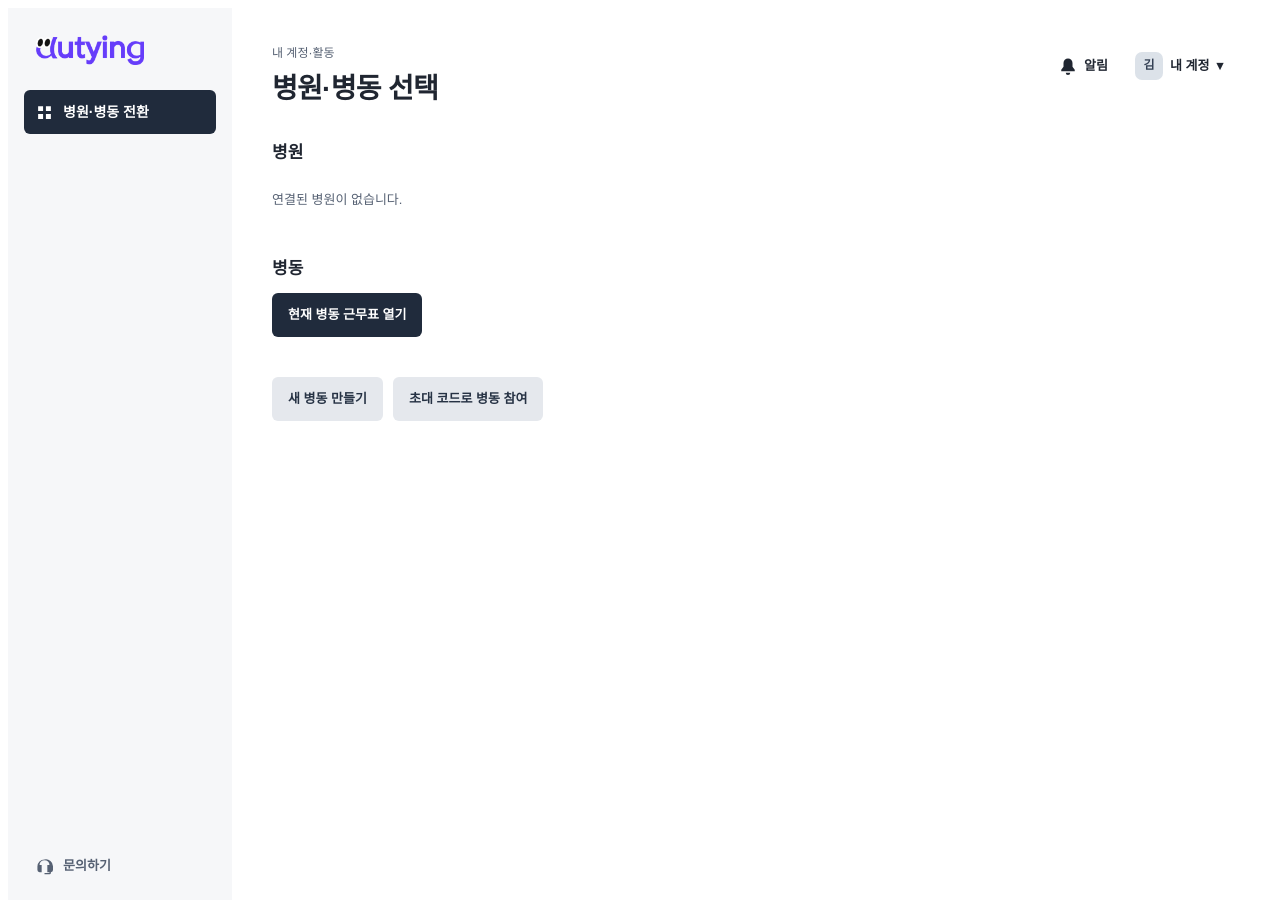
hospital management workspace › keeps ward code entry on the existing route for ward-only accounts
Click the link "초대 코드로 병동 참여". click: {"x": 468, "y": 399}
box: [393,377,544,421]
(page scrolled)
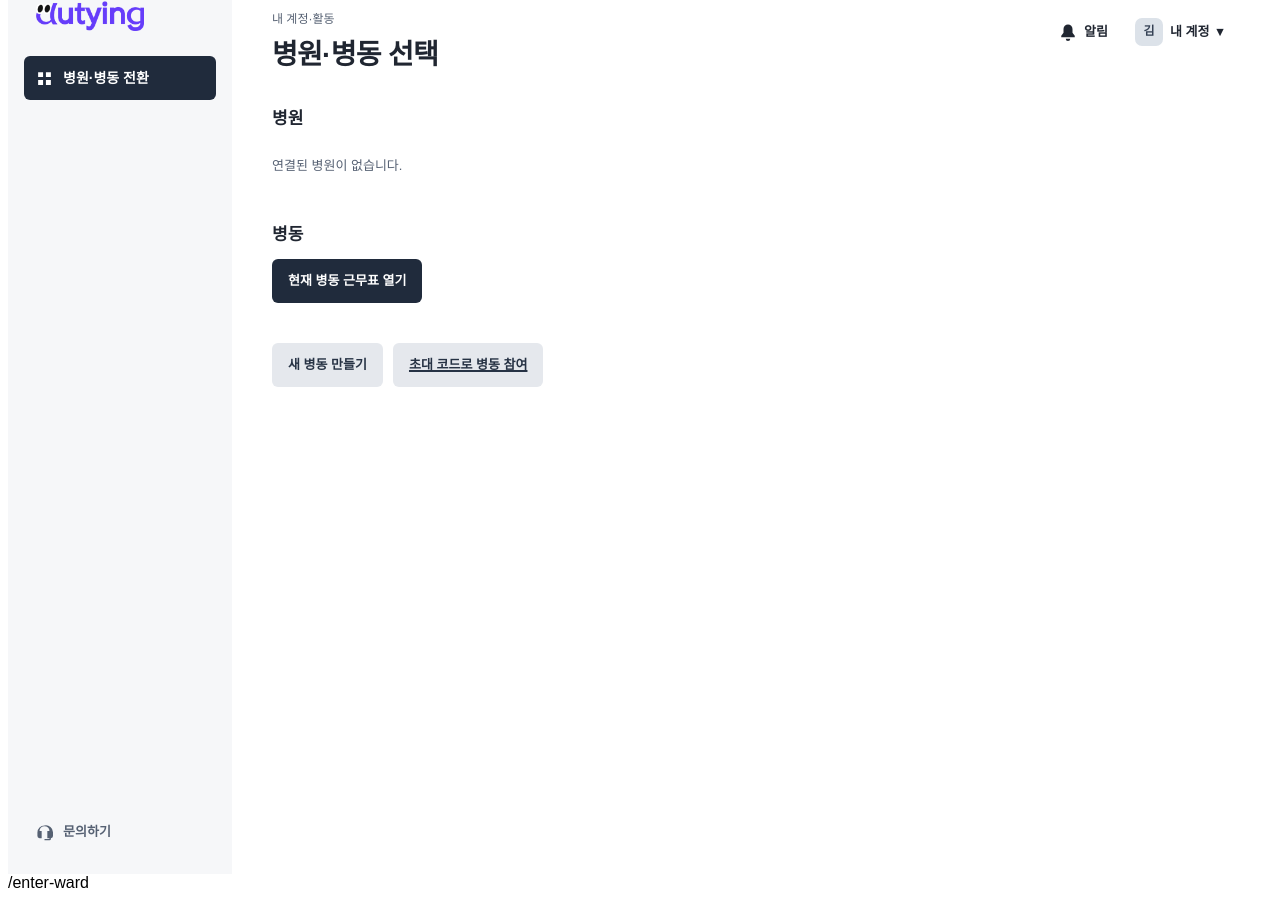
Expected: the text named "current route" reads "/enter-ward", [8,874,89,891]
